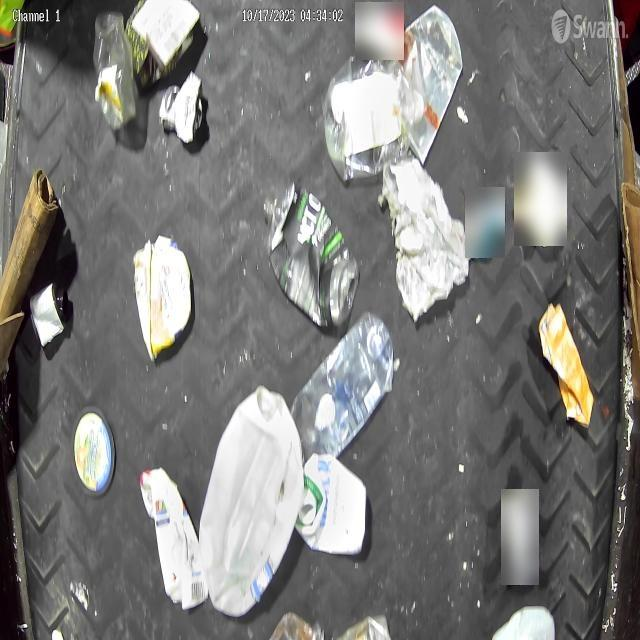milk_jug: (195, 388, 308, 614), (485, 604, 557, 640)
plastic_bottle: (290, 311, 396, 457), (324, 55, 421, 182)
